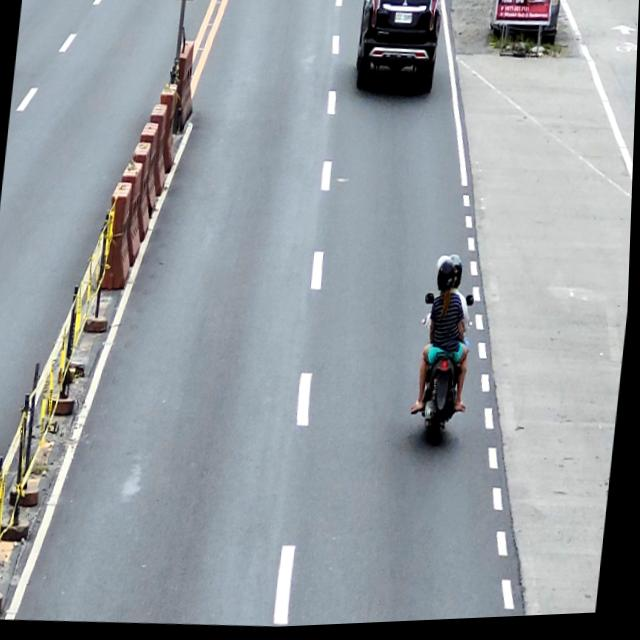Car: (354, 0, 445, 100)
License-Plate: (393, 14, 413, 28)
Motorcycle: (412, 292, 477, 453)
